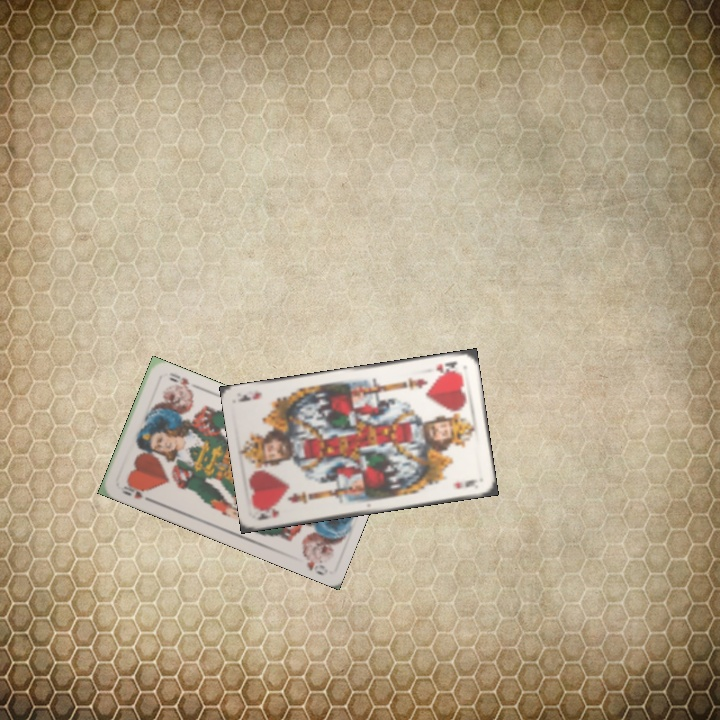HK: (432, 357, 463, 376), (254, 504, 281, 523)
HO: (118, 478, 155, 505)
